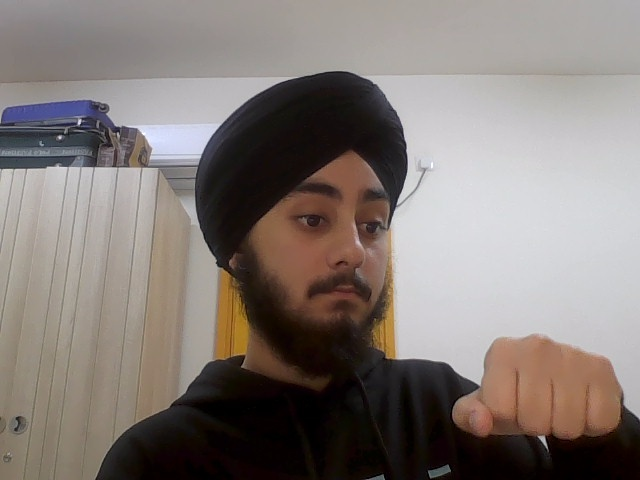Yes: (450, 324, 623, 451)
